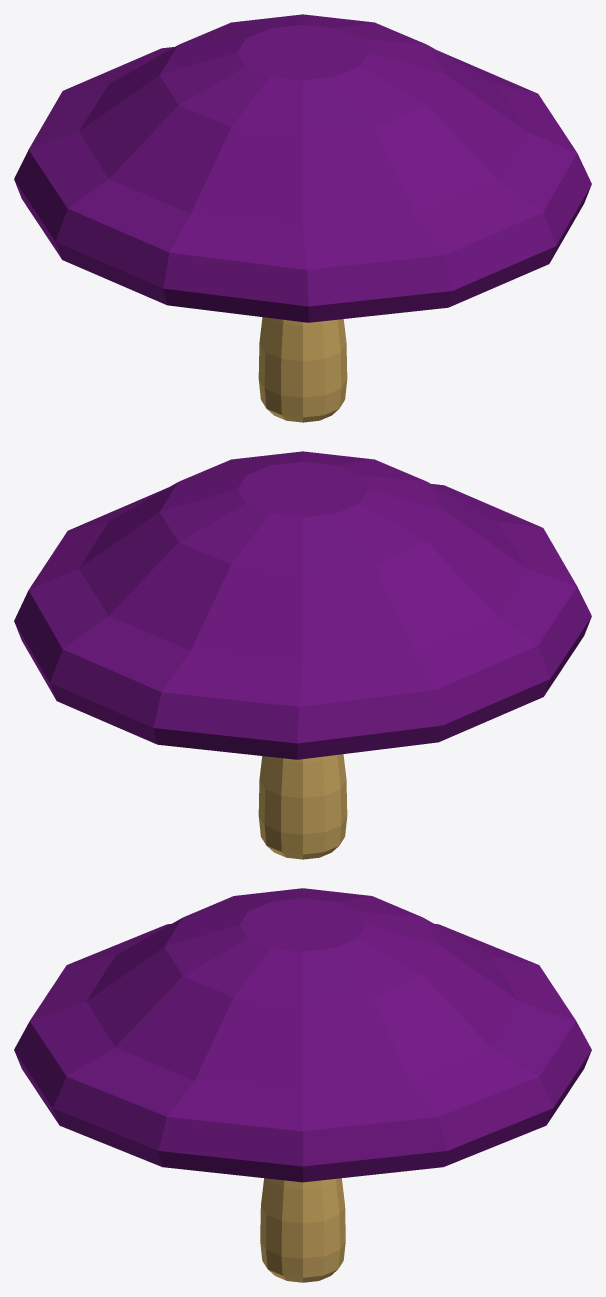
Rendered from fbx_mushroom2.fbx.
The picture shows the model from 3 angles, top to bottom: view 1: azimuth 30°, elevation 25°; view 2: azimuth 150°, elevation 25°; view 3: azimuth 270°, elevation 25°; orthographic projection. The views are drawn at different scales.
Visible parts, largest first — view 1: Circle; view 2: Circle; view 3: Circle.
Part boxes in pixels (box(x1,y1,x2,y2)): Circle: box(14, 14, 591, 422); Circle: box(14, 451, 591, 859); Circle: box(14, 888, 591, 1282).
Bounding box in the file's own units: 1177 × 809 × 1232.
